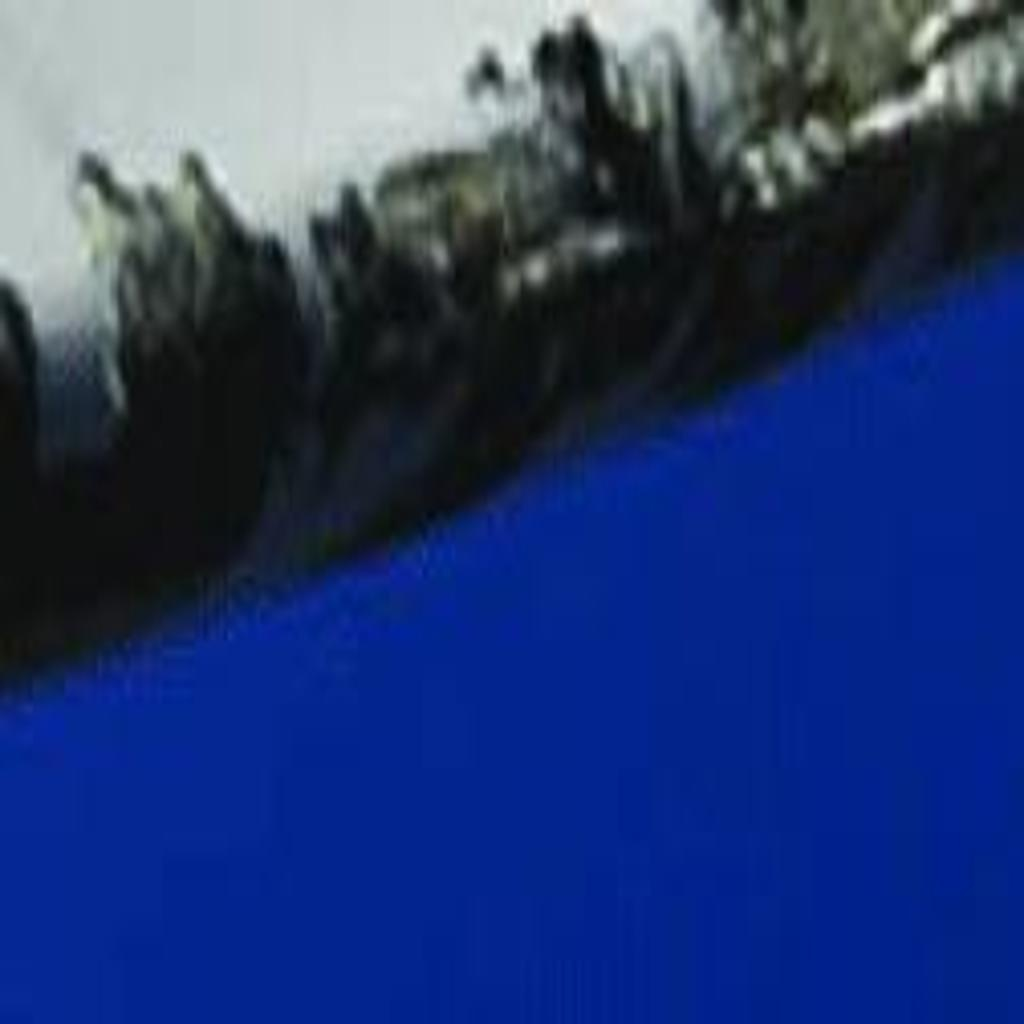corrosion: (48, 153, 517, 644), (559, 3, 986, 407)
